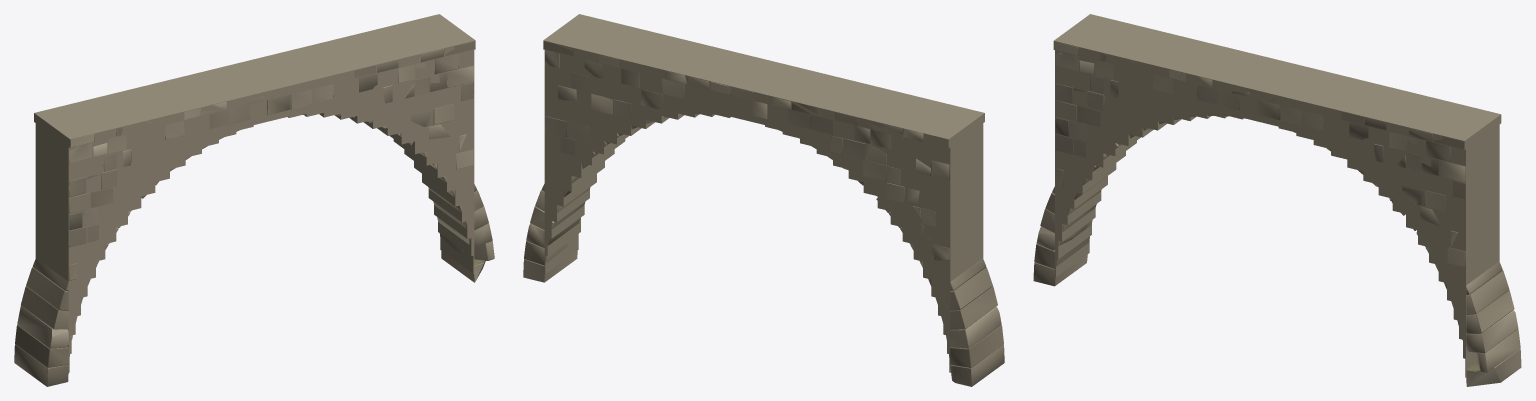
Rendered from viaduct_arch.glb.
3 views of the same model, side by side, from view 1: azimuth 30°, elevation 25°; view 2: azimuth 150°, elevation 25°; view 3: azimuth 330°, elevation 25° (orthographic).
Parts seen in each view (by area): view 1: viaduct_arch_far, viaduct_arch; view 2: viaduct_arch_far, viaduct_arch; view 3: viaduct_arch_far, viaduct_arch.
Boxes of the visible parts, left/top/right/bottom form: viaduct_arch_far: left=34, top=14, right=475, bottom=372; viaduct_arch: left=14, top=41, right=494, bottom=386; viaduct_arch_far: left=543, top=14, right=984, bottom=372; viaduct_arch: left=523, top=41, right=1004, bottom=386; viaduct_arch_far: left=1053, top=14, right=1501, bottom=377; viaduct_arch: left=1033, top=41, right=1521, bottom=386.
Size of the model in its own units: 62.42 by 32.4 by 8.77.
